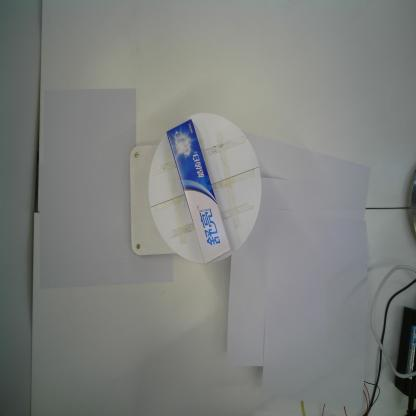Personal Hygiene: (167, 117, 231, 264)
